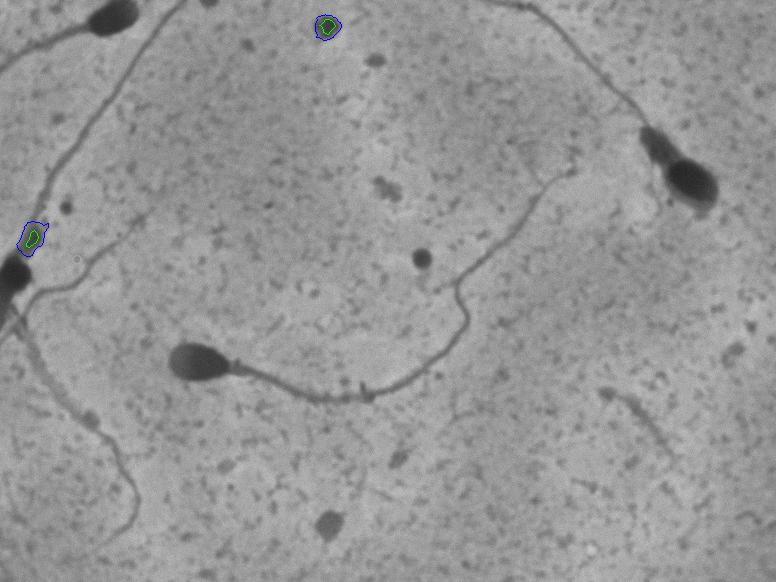Abnormal: (566, 47, 749, 256)
Normal: (127, 174, 587, 472)
